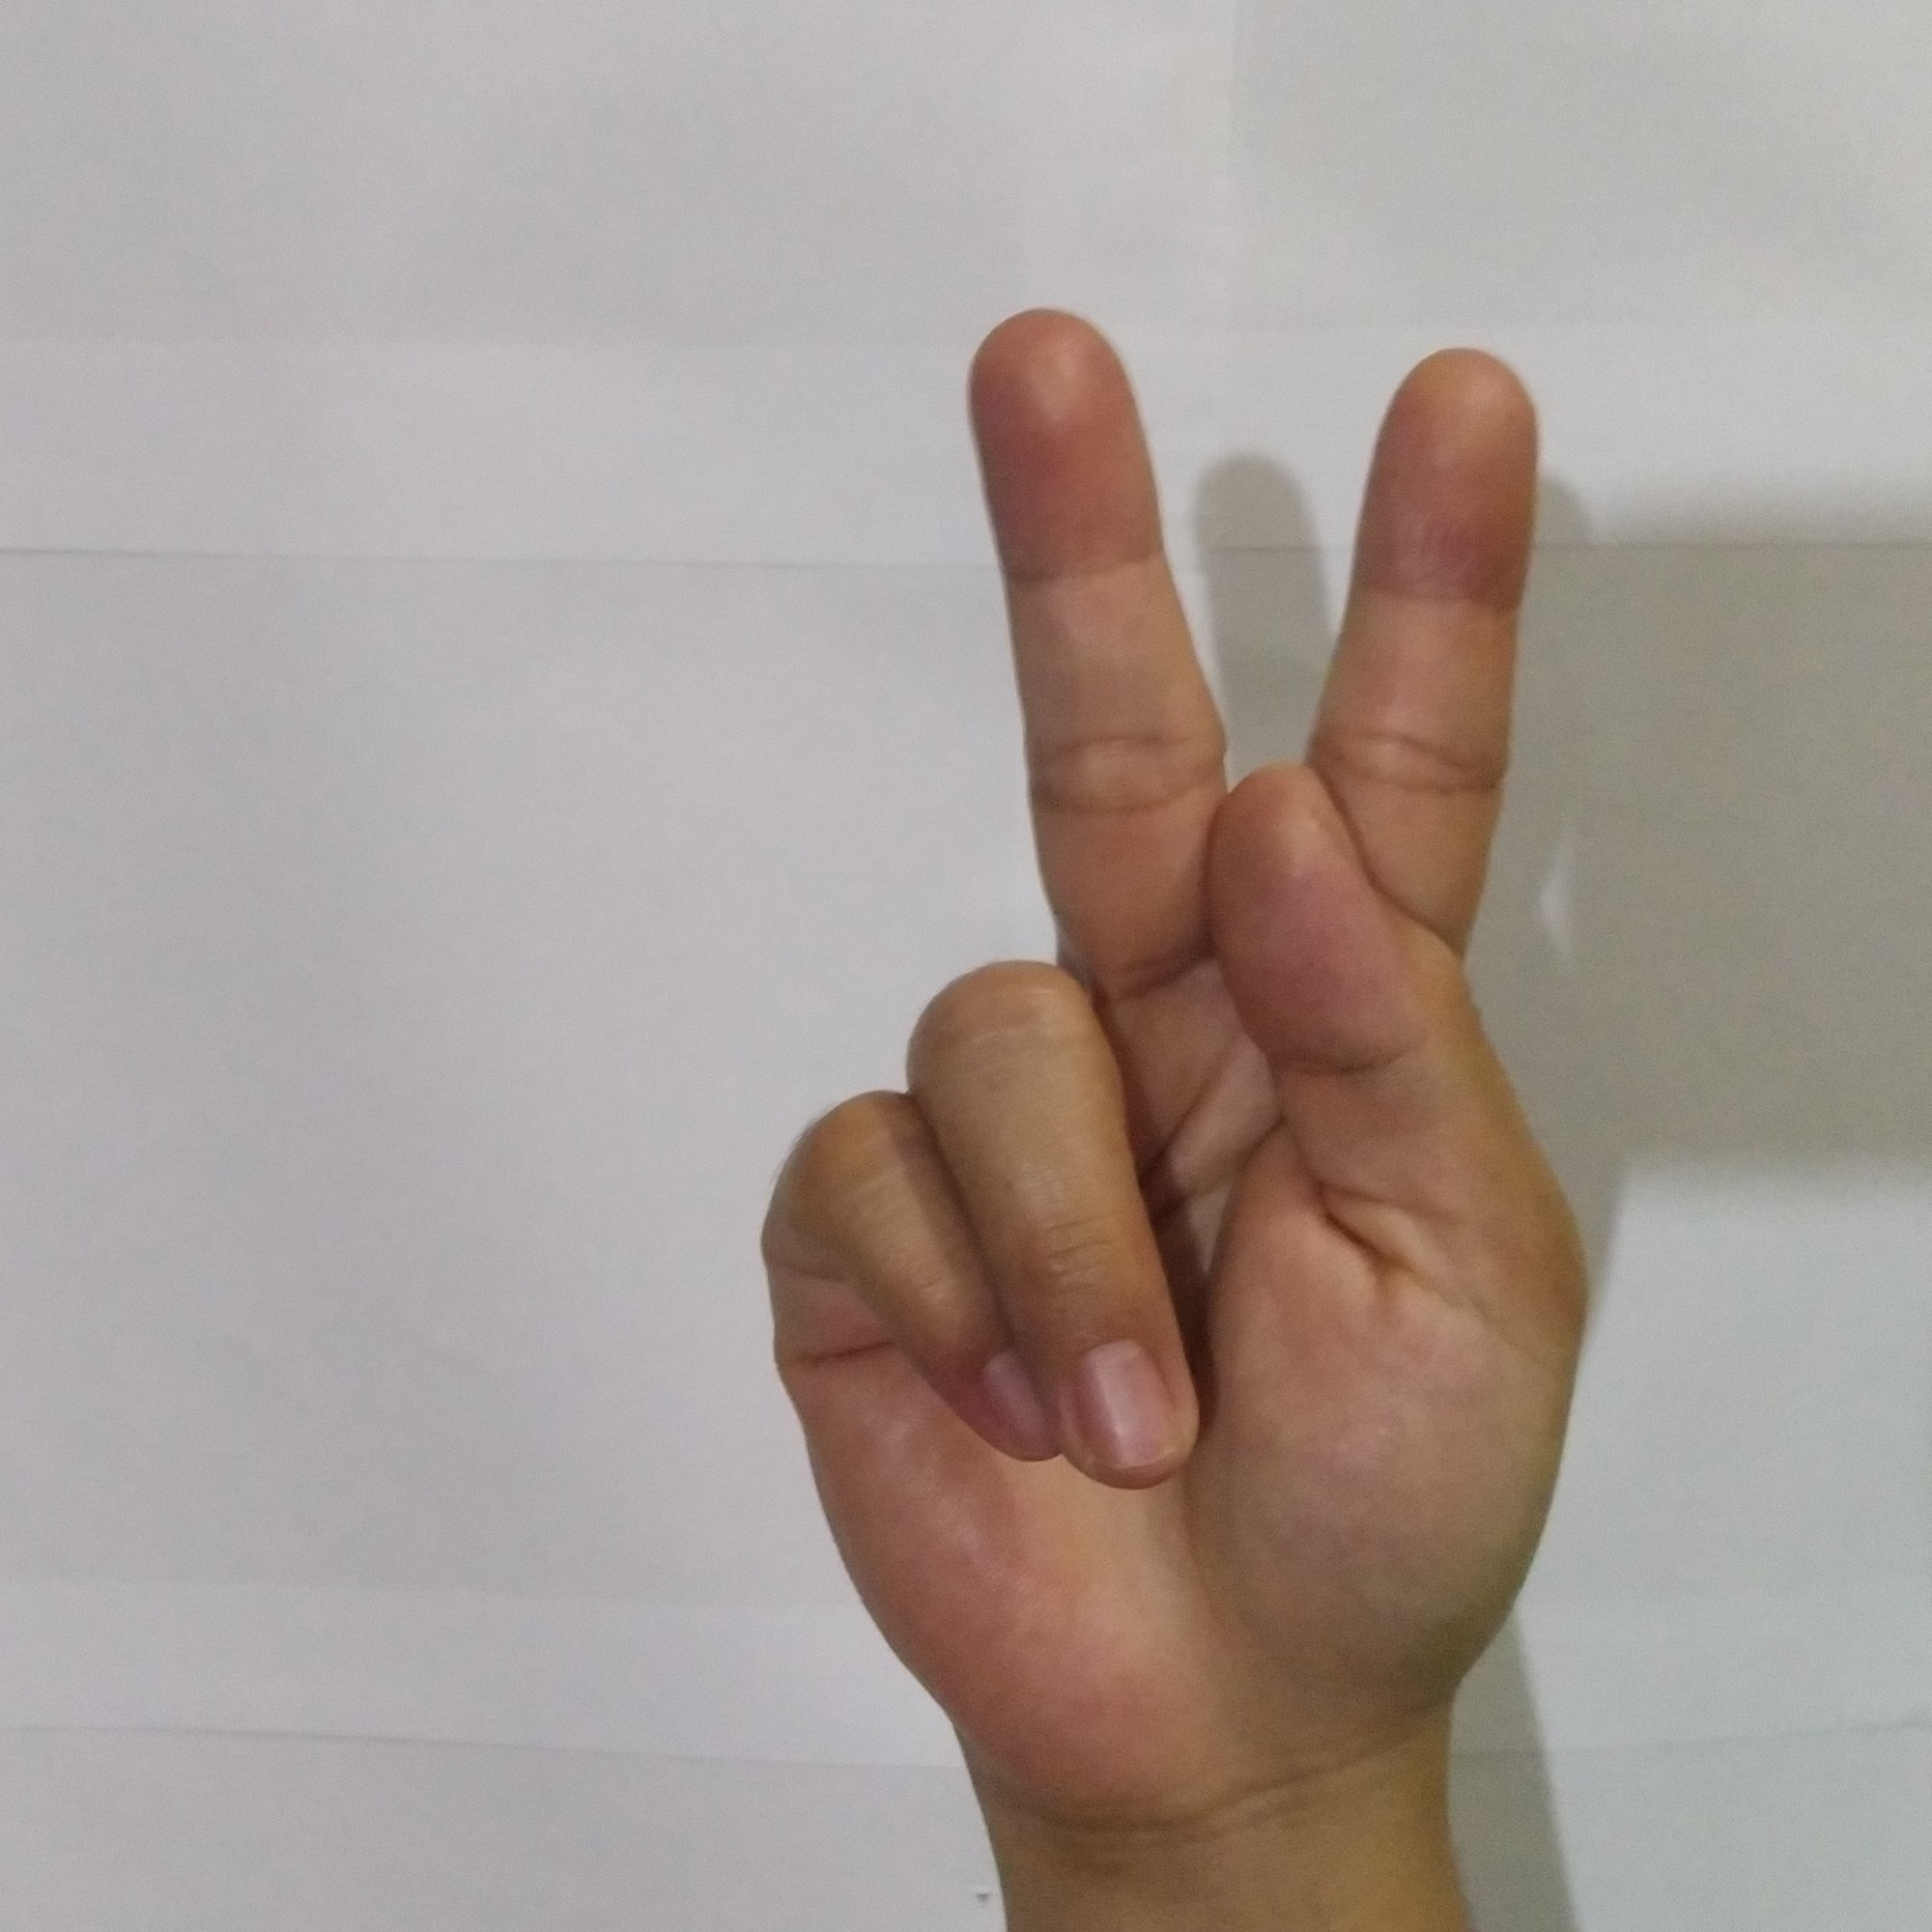K: (738, 281, 1610, 1718)
